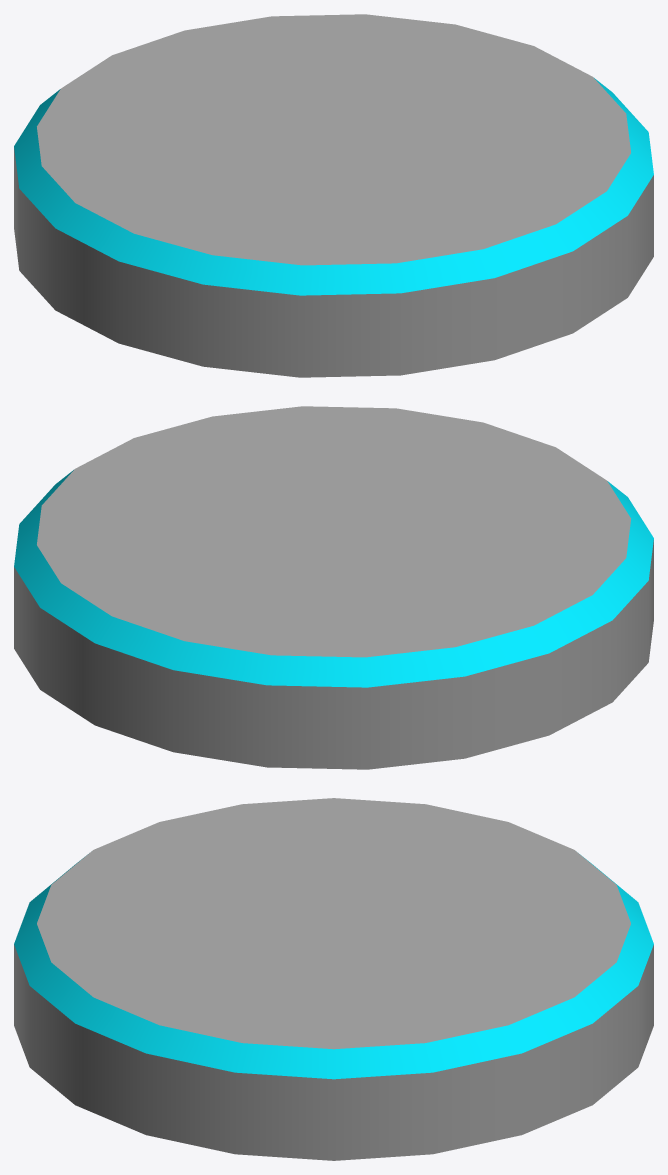
Rendered from BatteryObjective_Pickup.fbx.
3 views of the same model, one above another, from view 1: azimuth 30°, elevation 25°; view 2: azimuth 150°, elevation 25°; view 3: azimuth 270°, elevation 25° (orthographic).
Visible parts, largest first — view 1: OBJECTIVE_01; view 2: OBJECTIVE_01; view 3: OBJECTIVE_01.
Boxes of the visible parts, <box> form: OBJECTIVE_01: <box>14,14,653,377</box>; OBJECTIVE_01: <box>14,406,653,769</box>; OBJECTIVE_01: <box>14,798,653,1160</box>.
Bounding box in the file's own units: 237 × 41.75 × 237.
